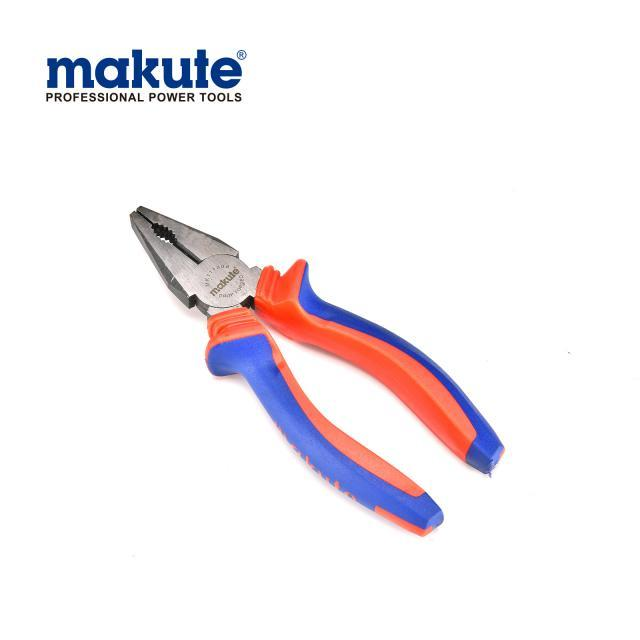pliers: (126, 198, 508, 537)
